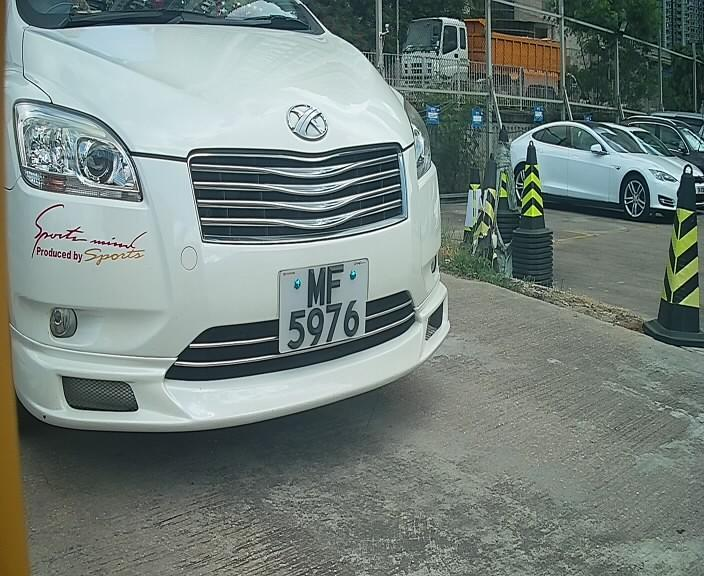License Plate: (268, 250, 371, 361)
